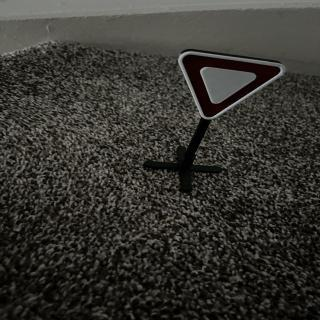sign_yield: (178, 51, 288, 123)
